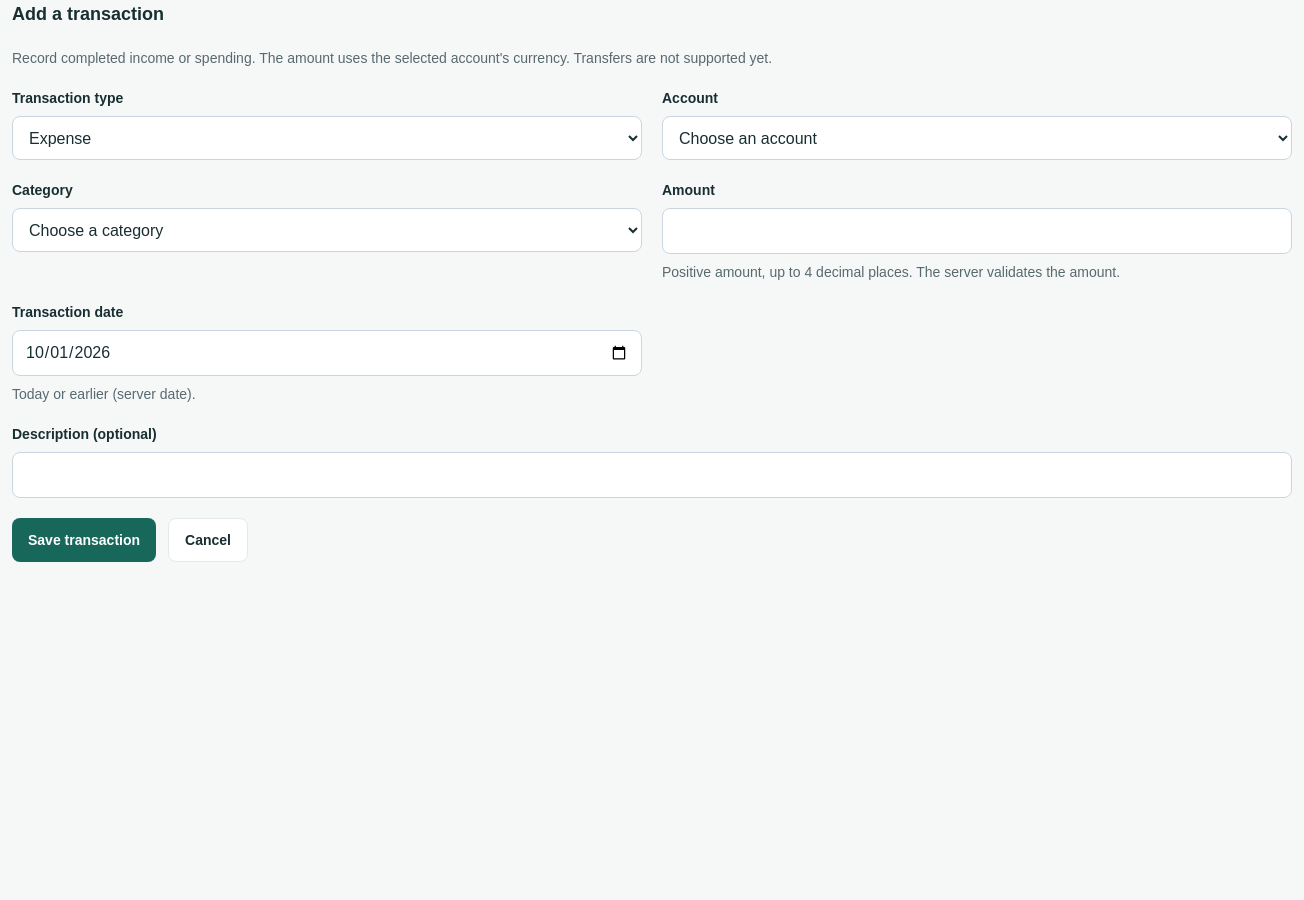
resets category when type changes and preserves fields after a failed save
This screenshot has width=1304, height=900.
Select "Food" in the dropdown labelled "Category". click: [327, 230]
box: [12,208,642,252]
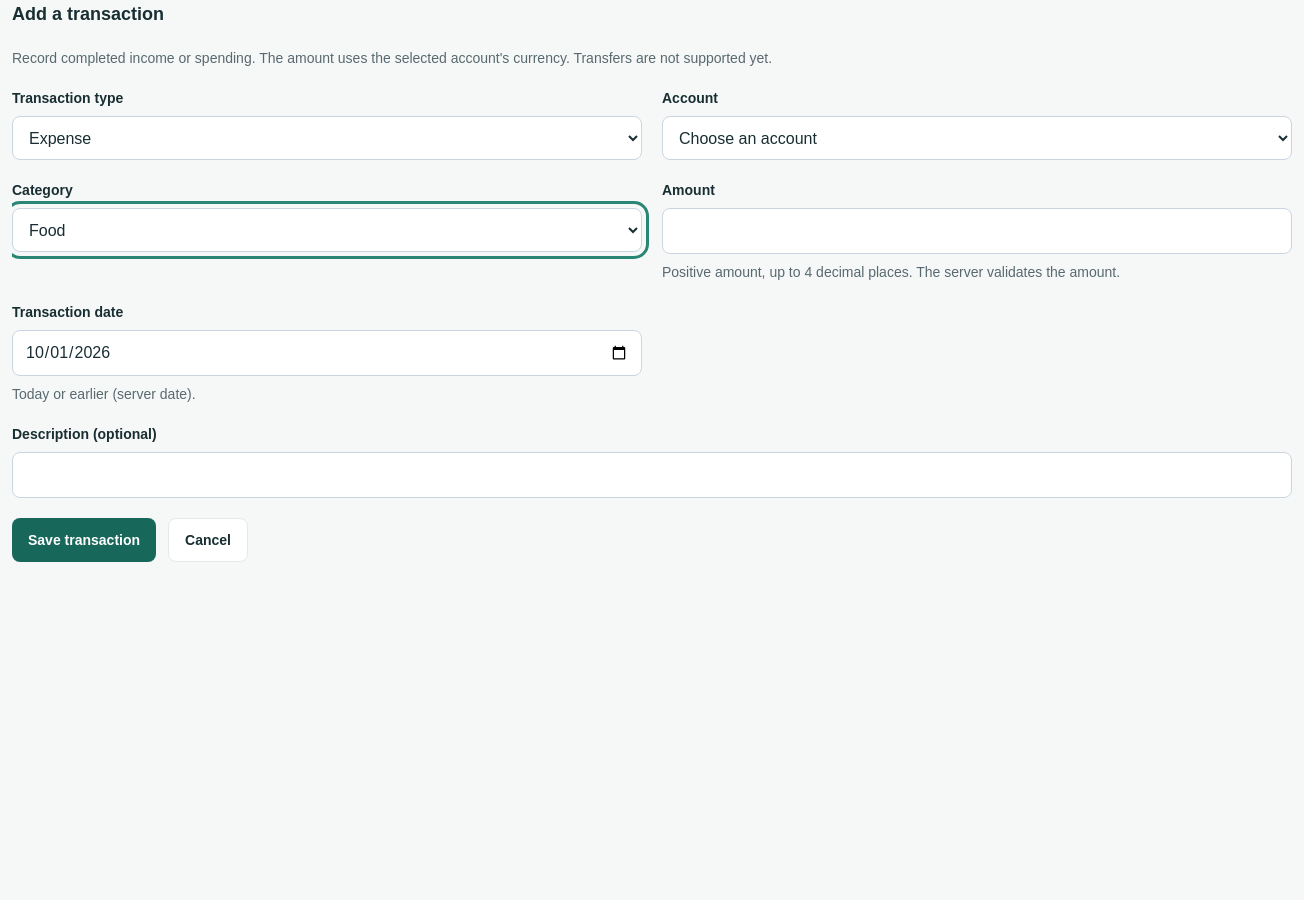
Select "Income" in the dropdown labelled "Transaction type". click: [327, 138]
box: [12,116,642,160]
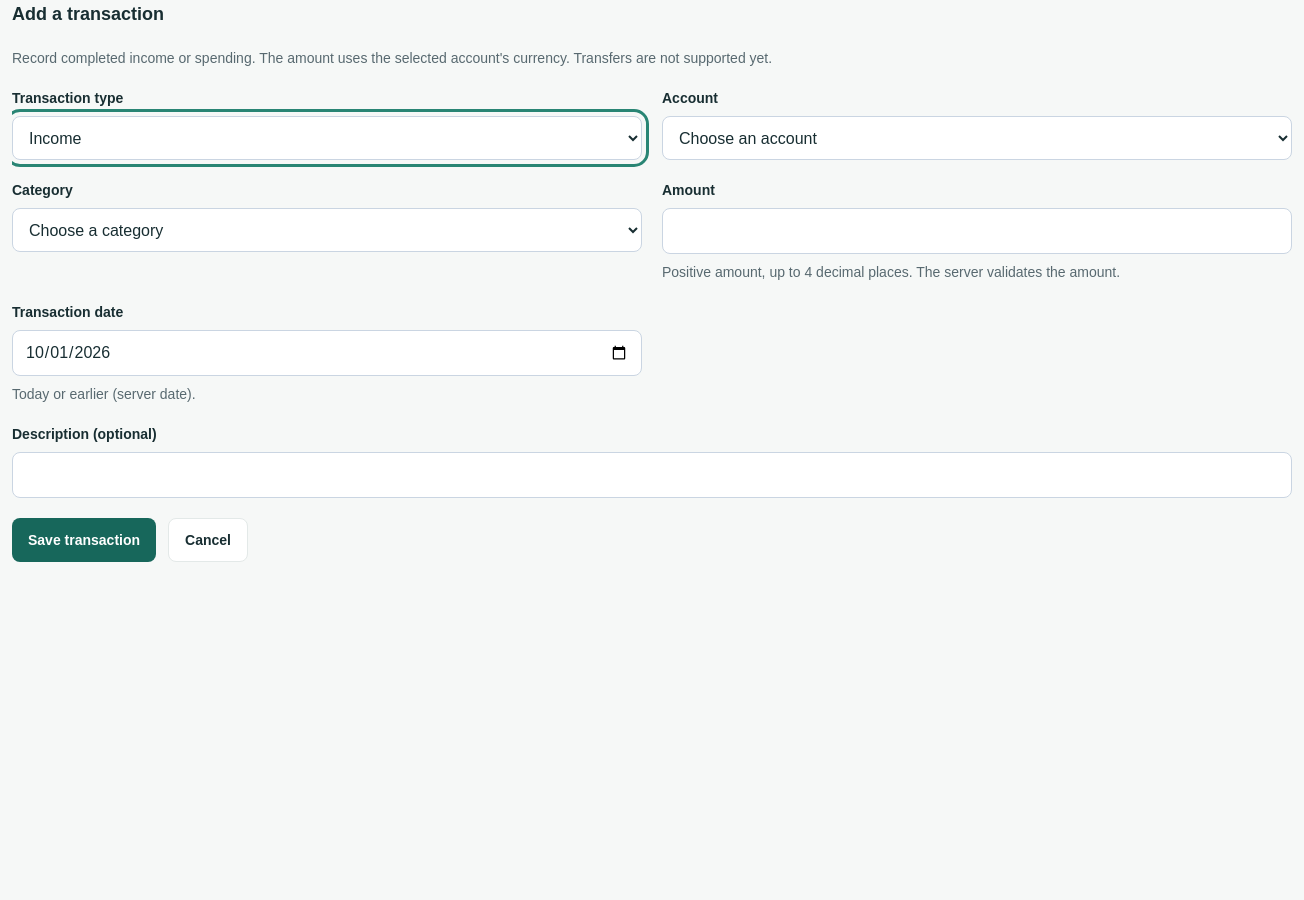
Expected: the option "Food" is not shown
Select "Salary" in the dropdown labelled "Category". click: [327, 230]
box: [12,208,642,252]
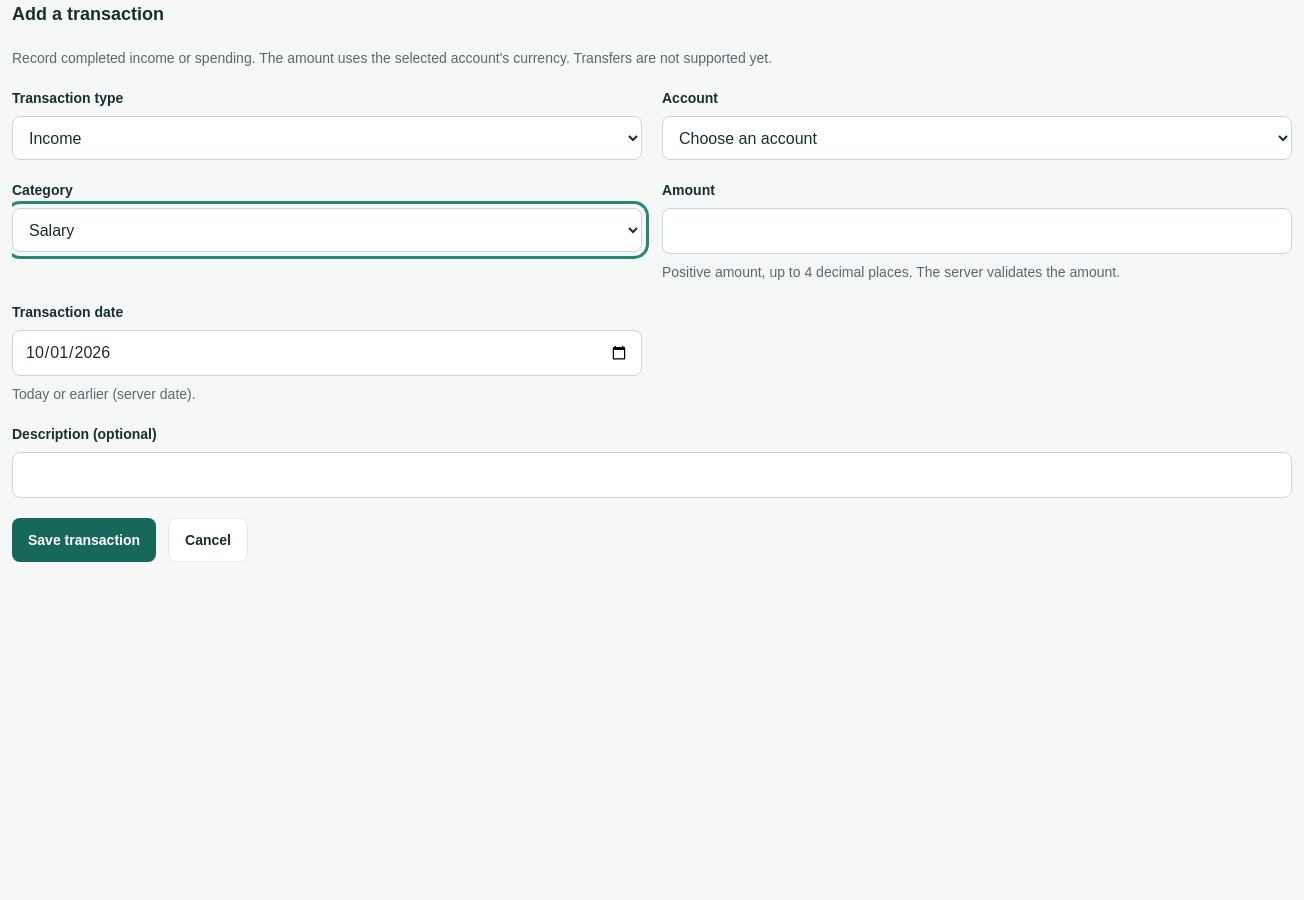
Select "Euro (EUR)" in the dropdown labelled "Account". click: [977, 138]
box: [662,116,1292,160]
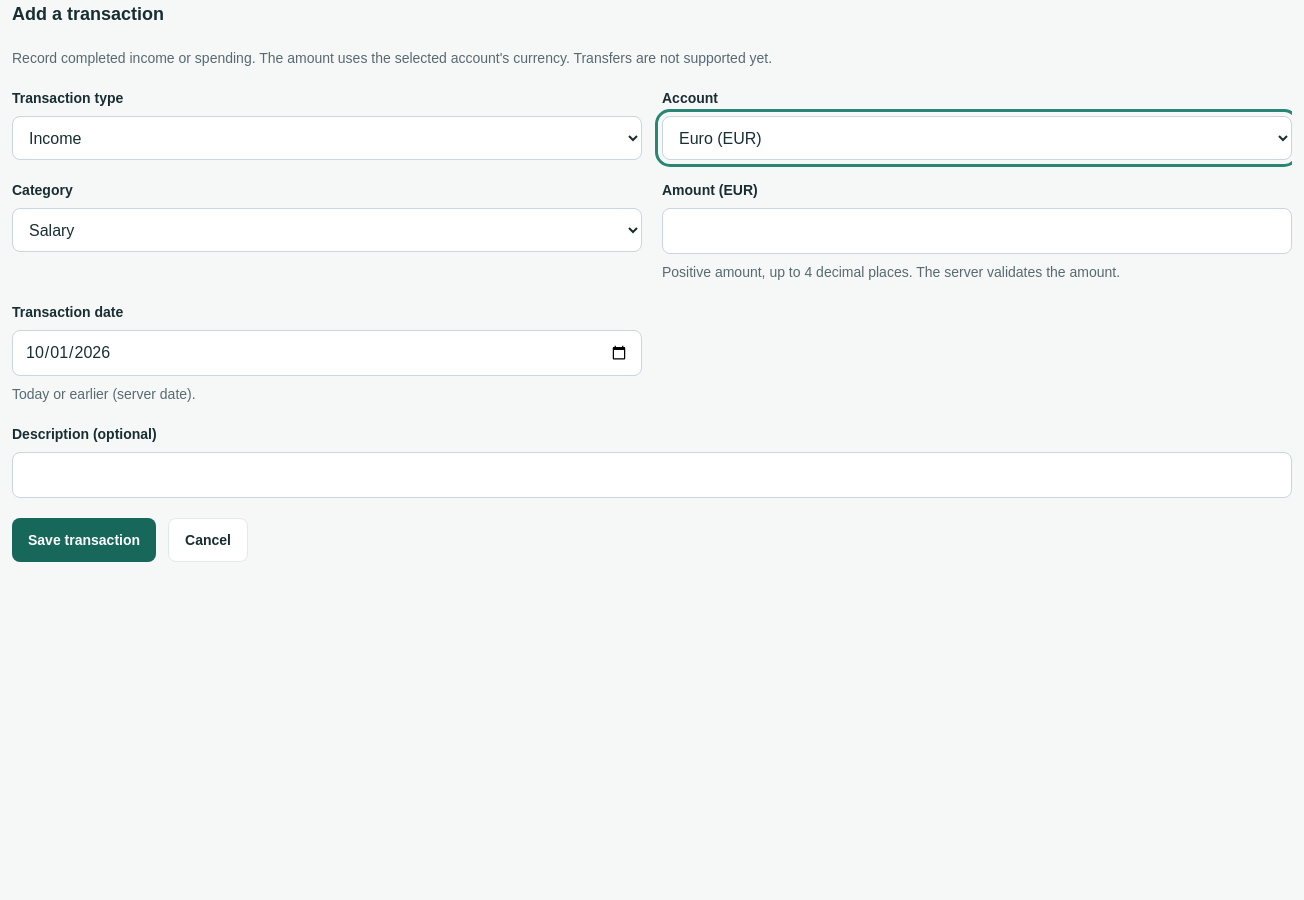
Type "20.1234" into the field labelled "Amount (EUR)". click: [977, 231]
box: [662,208,1292,254]
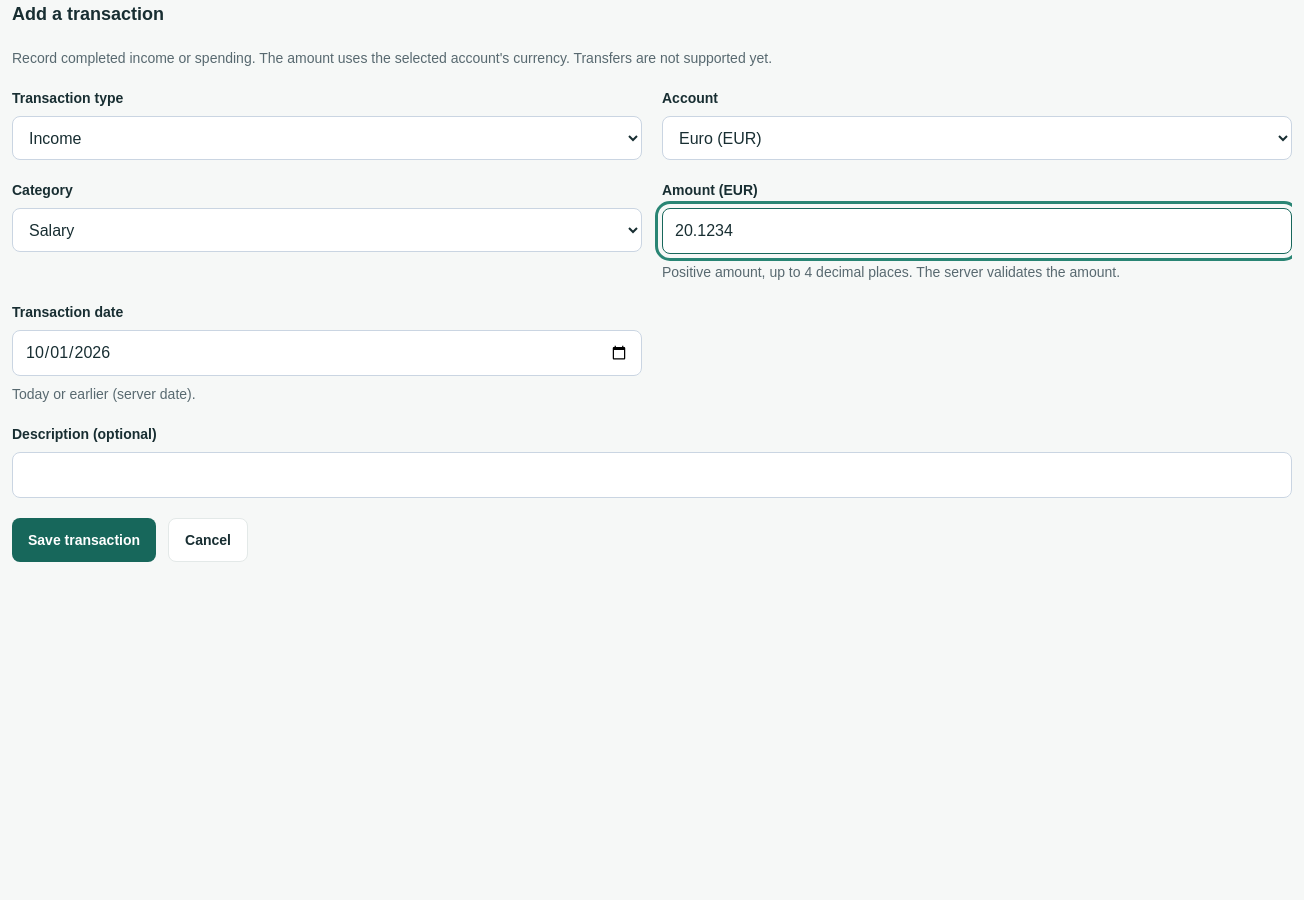
Click the button "Save transaction". click: [84, 540]
box: [12,518,156,562]
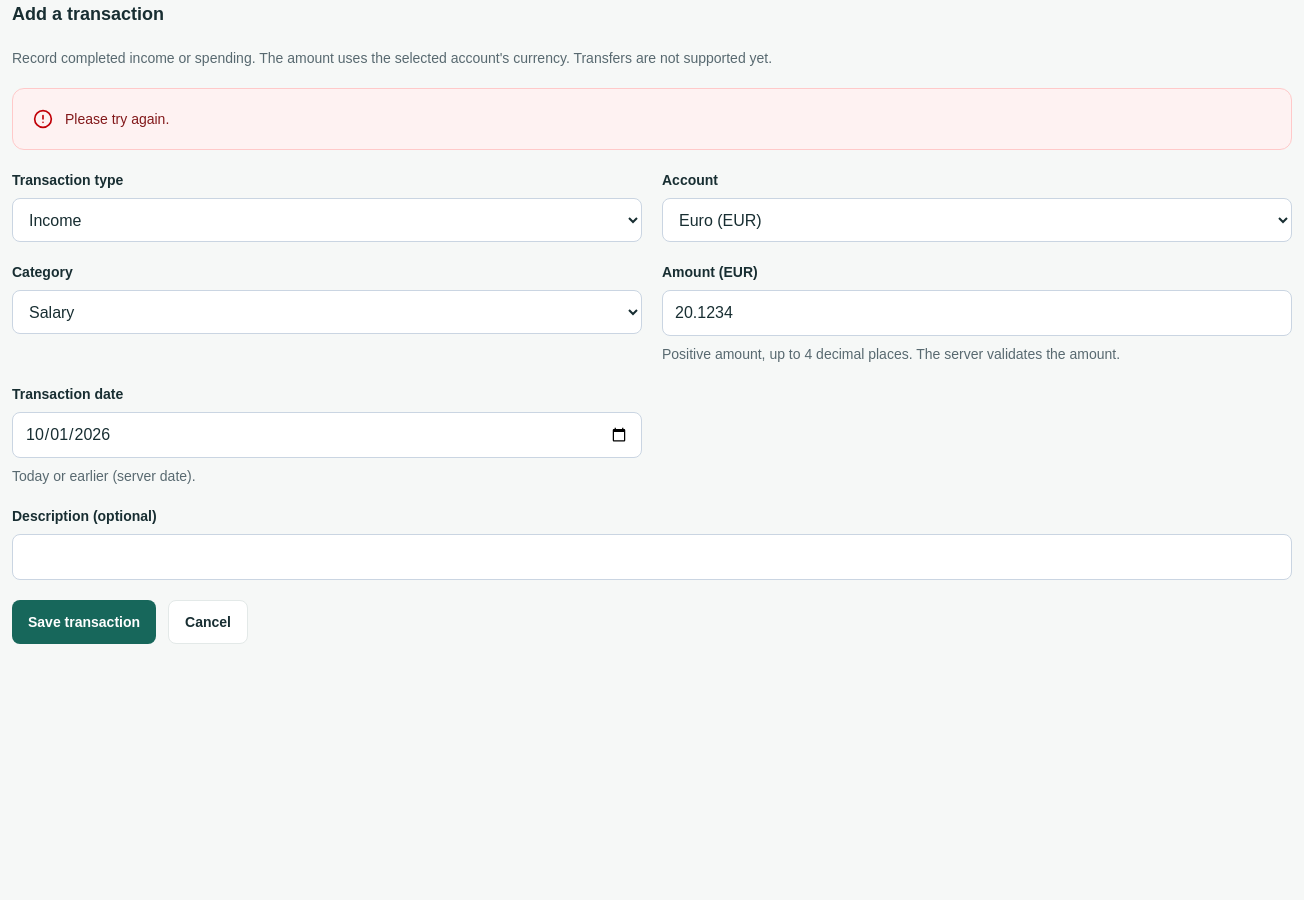
Now the message reads "Please try again.", box [65,111,169,127]
